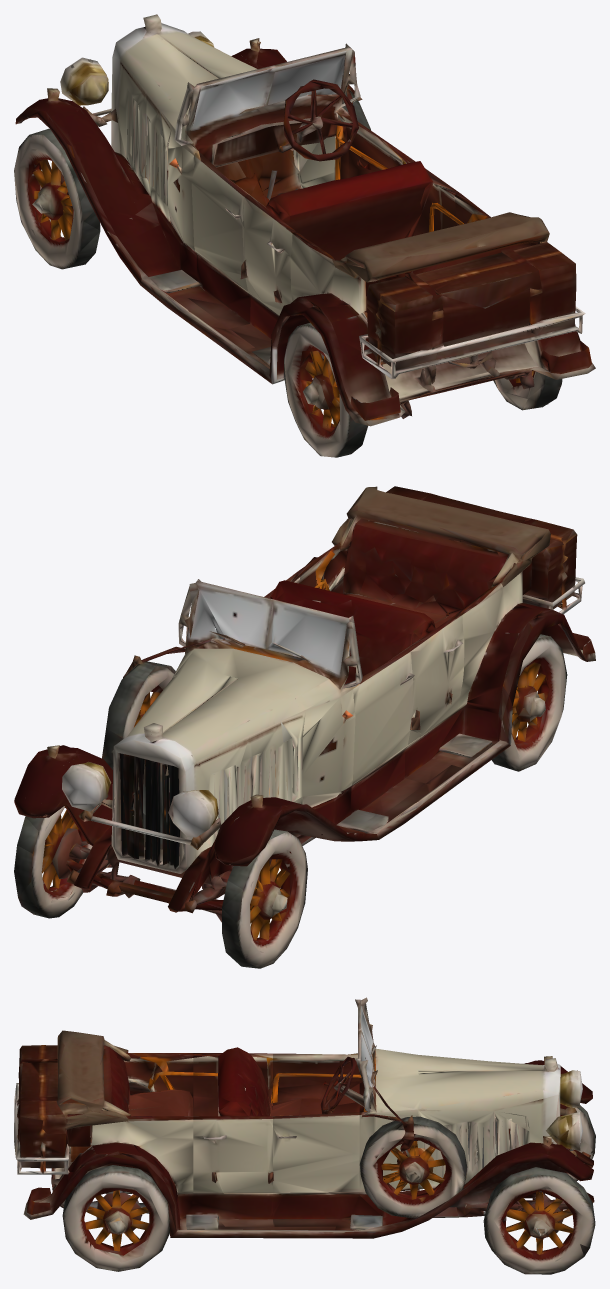
File: vehicle_tourer.glb
The picture shows the model from 3 angles, top to bottom: view 1: azimuth 30°, elevation 25°; view 2: azimuth 150°, elevation 25°; view 3: azimuth 270°, elevation 25°; orthographic projection. The views are drawn at different scales.
Visible parts, largest first — view 1: car, wheel_fl, wheel_rl, door_fl, door_rl, door_fr, door_rr, wheel_rr, steering_wheel; view 2: car, wheel_fl, wheel_rl, door_fl, door_rl, wheel_fr; view 3: car, wheel_fr, wheel_rr, door_fr, door_rr, door_fl, door_rl, wheel_fl.
Part boxes in pixels (<box>): car: <box>15,14,595,426</box>; wheel_fl: <box>14,134,99,269</box>; wheel_rl: <box>269,324,367,457</box>; door_fl: <box>191,152,249,290</box>; door_rl: <box>240,194,295,314</box>; door_fr: <box>339,116,406,177</box>; door_rr: <box>401,156,457,237</box>; wheel_rr: <box>493,370,562,410</box>; steering_wheel: <box>287,81,353,153</box>; car: <box>14,486,595,968</box>; wheel_fl: <box>222,831,307,968</box>; wheel_rl: <box>492,636,567,771</box>; door_fl: <box>352,648,414,784</box>; door_rl: <box>403,613,464,744</box>; wheel_fr: <box>14,806,92,918</box>; car: <box>14,997,595,1239</box>; wheel_fr: <box>483,1174,595,1274</box>; wheel_rr: <box>62,1169,176,1271</box>; door_fr: <box>273,1109,359,1192</box>; door_rr: <box>193,1109,272,1192</box>; door_fl: <box>273,1053,359,1113</box>; door_rl: <box>193,1053,272,1116</box>; wheel_fl: <box>567,1105,595,1181</box>.
Size of the model in its own units: 1.9 by 1.85 by 4.8.
Materials: 1 (1 with a texture image).
